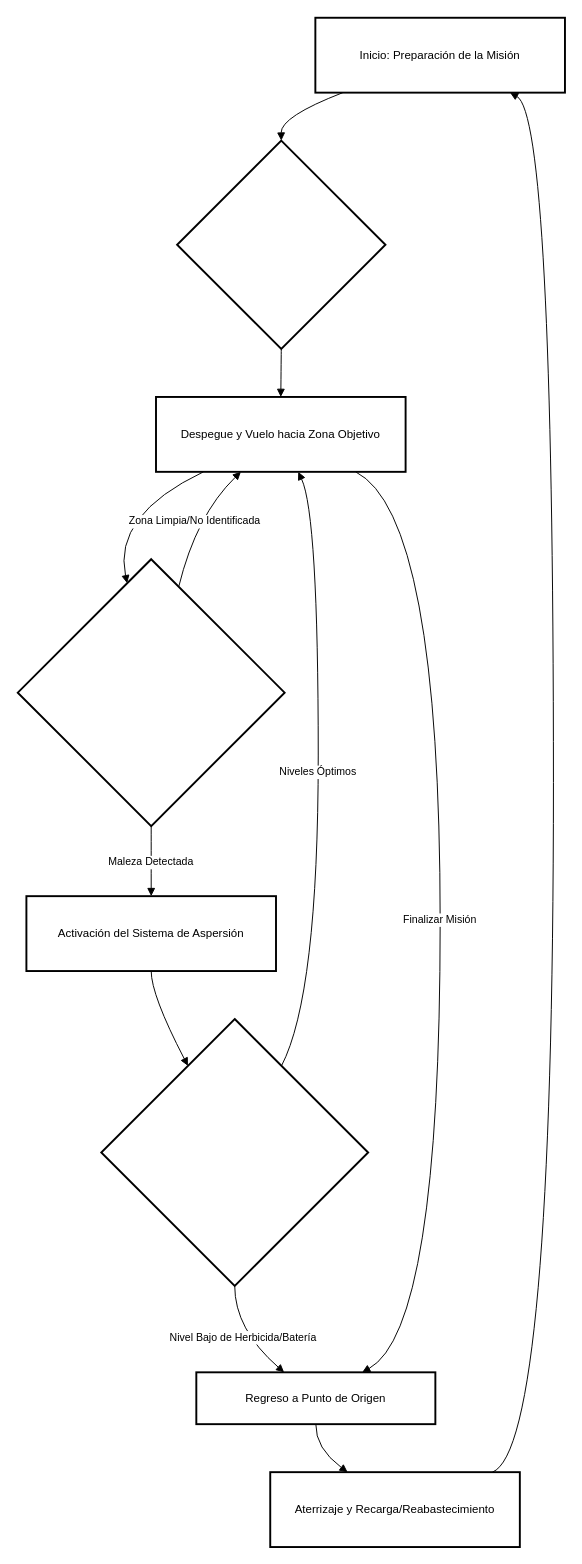
This 582x1564 diagram has some shape labels left out. The centre of each missing label's shape, as x and y in pixels:
"Identificación de Thunbergia Alata" goes at point 150,692.
"Monitoreo de Carga y Batería" goes at point 234,1152.
"Planificación del Vuelo" goes at point 281,244.
